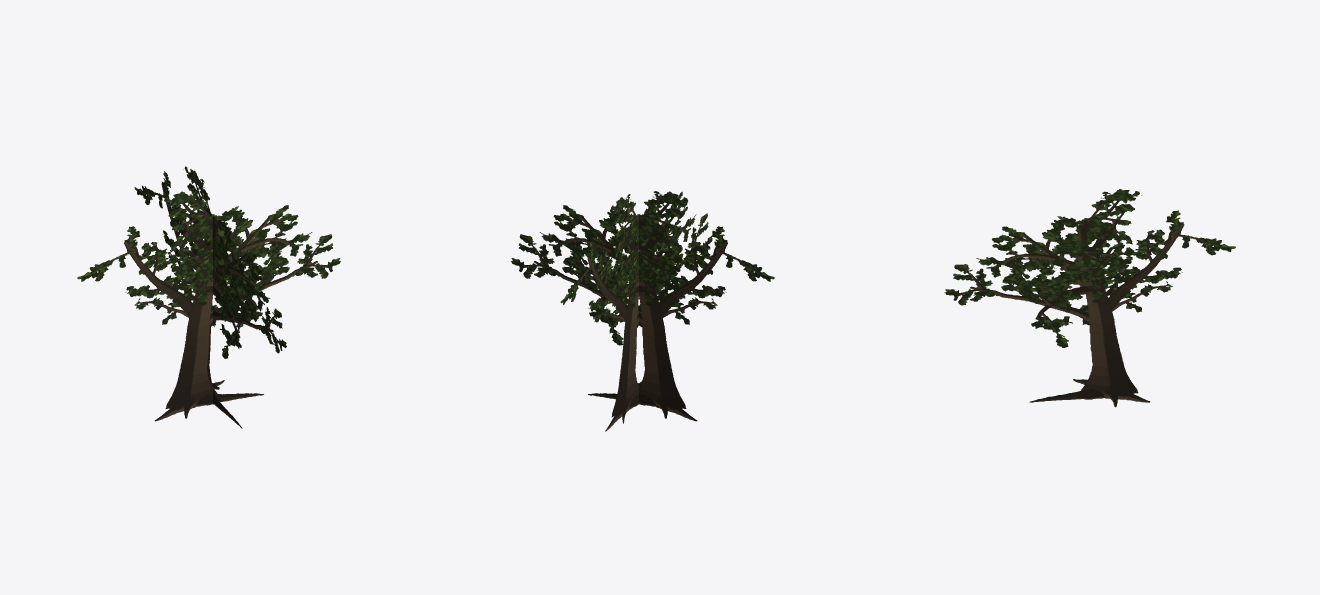
File: CoastalOak.glb
The picture shows the model from 3 angles, left to right: view 1: azimuth 30°, elevation 25°; view 2: azimuth 150°, elevation 25°; view 3: azimuth 270°, elevation 25°; orthographic projection. The views are drawn at different scales.
Size of the model in its own units: 6.15 by 5.89 by 6.15.
Materials: 1 (1 with a texture image).
